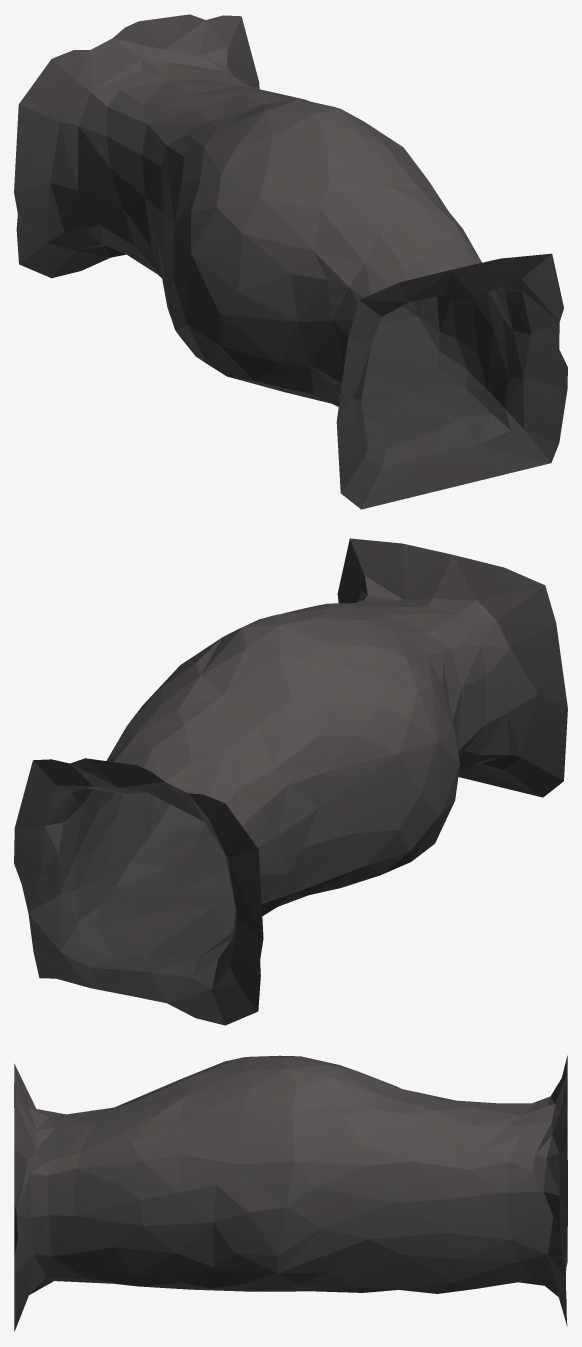
The model's file is ZLP_Cave_B_2.FBX.
3 renders of one model, top to bottom at view 1: azimuth 30°, elevation 25°; view 2: azimuth 150°, elevation 25°; view 3: azimuth 270°, elevation 25°, orthographic. The views are drawn at different scales.
Visible parts, largest first — view 1: ZLP_Cave_B_2; view 2: ZLP_Cave_B_2; view 3: ZLP_Cave_B_2.
Part boxes in pixels (x1,y1,x2,y2): ZLP_Cave_B_2: (14,14,567,509); ZLP_Cave_B_2: (14,538,567,1025); ZLP_Cave_B_2: (14,1055,567,1331).
Bounding box in the file's own units: 697 × 658 × 1450.
